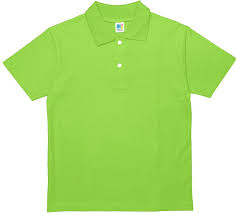C_polo shirt: (3, 4, 235, 211)
